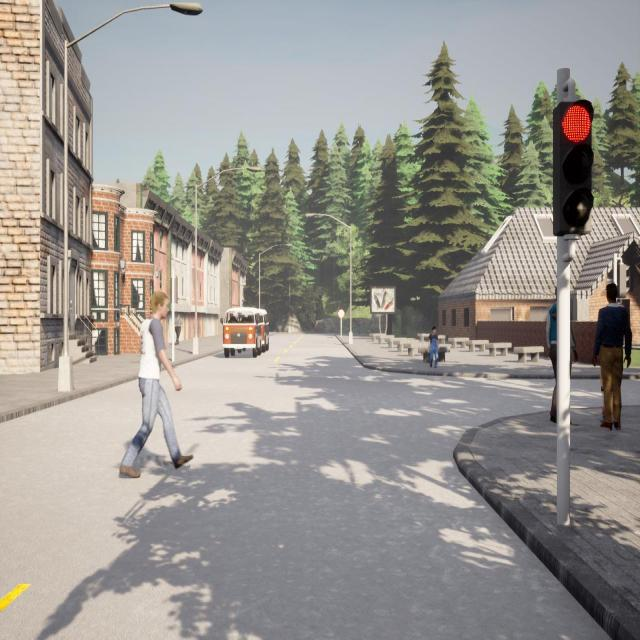Pedestrian: (120, 292, 192, 478), (594, 282, 634, 436), (546, 284, 581, 428), (429, 326, 440, 368), (174, 311, 183, 348)
Traffic_Signs: (337, 309, 345, 318)
Vehicle: (222, 308, 268, 358)
traffic_light: (553, 100, 593, 236)
